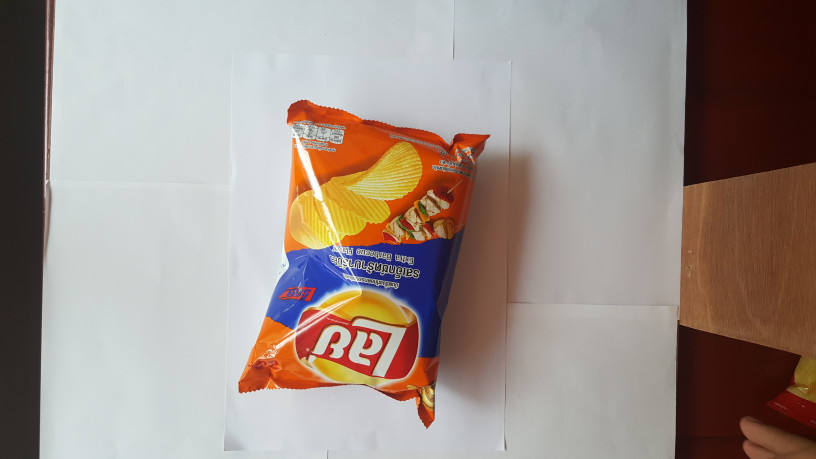lays-bbq: (230, 98, 494, 432)
